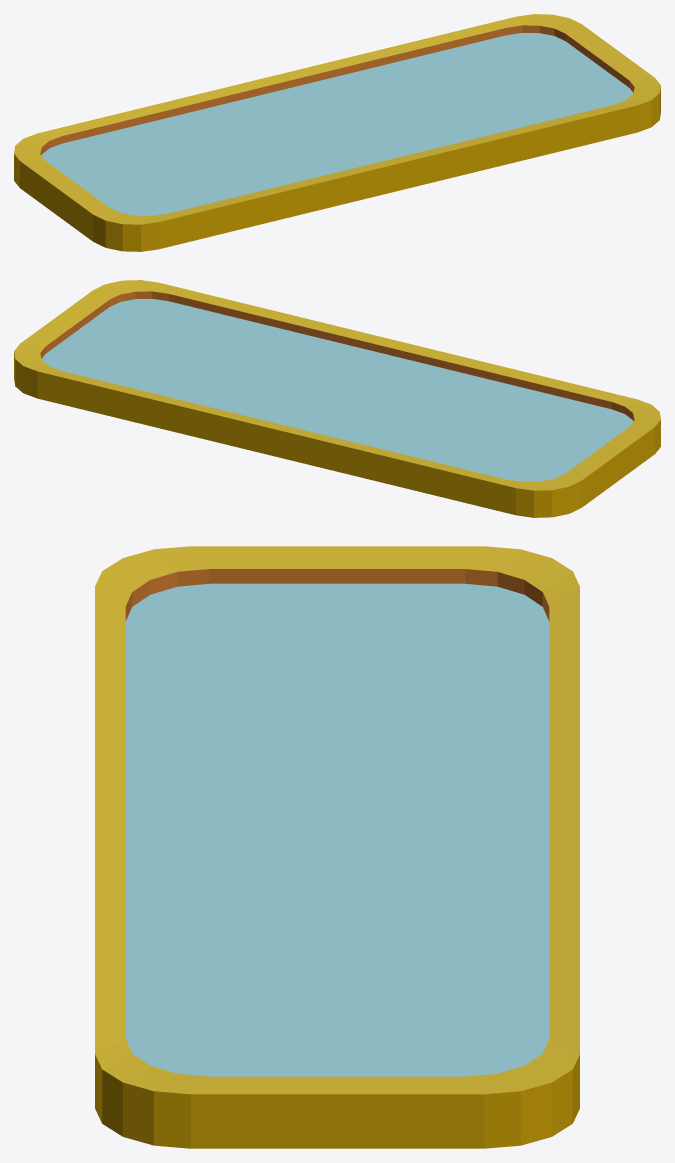
The model's file is количество очков.fbx.
3 views of the same model, one above another, from view 1: azimuth 30°, elevation 25°; view 2: azimuth 150°, elevation 25°; view 3: azimuth 270°, elevation 25° (orthographic). The views are drawn at different scales.
Visible parts, largest first — view 1: Cube.009; view 2: Cube.009; view 3: Cube.009.
Part boxes in pixels (x1,y1,x2,y2): Cube.009: [14, 14, 660, 251]; Cube.009: [14, 280, 660, 517]; Cube.009: [95, 546, 579, 1148].
Size of the model in its own units: 552 by 25.54 by 206.
